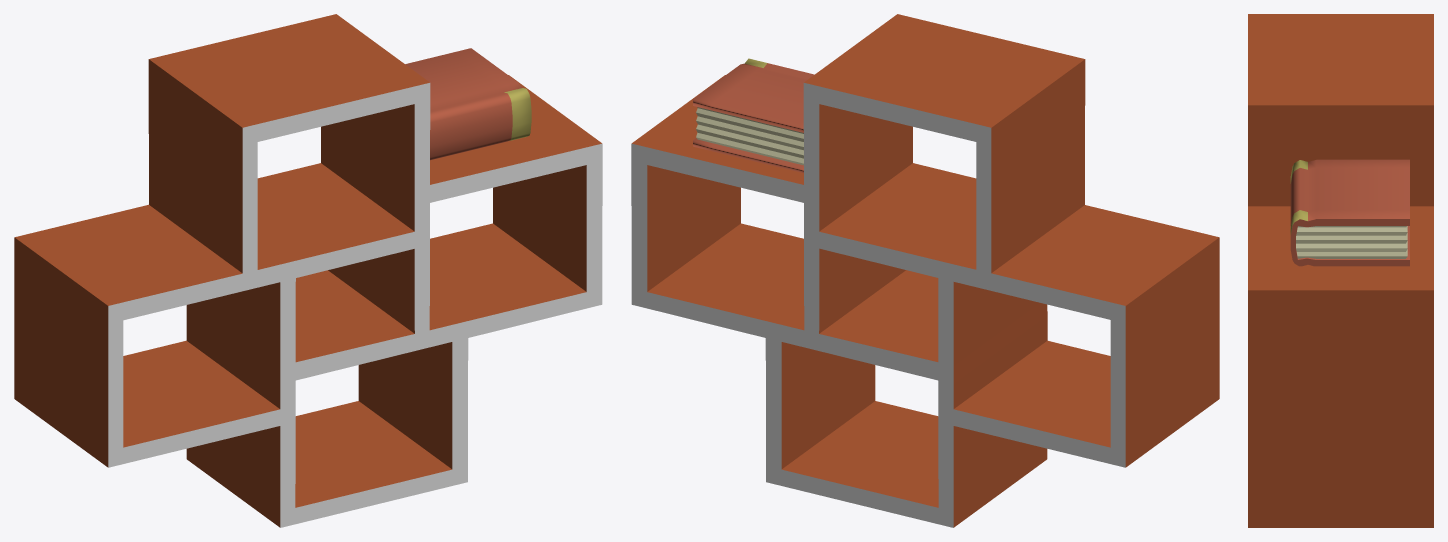
File: shelves_tier11.fbx
3 renders of one model, left to right at view 1: azimuth 30°, elevation 25°; view 2: azimuth 150°, elevation 25°; view 3: azimuth 270°, elevation 25°, orthographic.
Visible parts, largest first — view 1: Cube.011, Cube.005; view 2: Cube.011, Cube.005; view 3: Cube.011, Cube.005.
Boxes of the visible parts, <box> form: Cube.011: <box>14,14,602,527</box>; Cube.005: <box>405,48,531,160</box>; Cube.011: <box>631,14,1219,527</box>; Cube.005: <box>693,58,814,172</box>; Cube.011: <box>1248,14,1433,527</box>; Cube.005: <box>1290,159,1409,266</box>.
Bounding box in the file's own units: 173 × 137 × 56.75.
